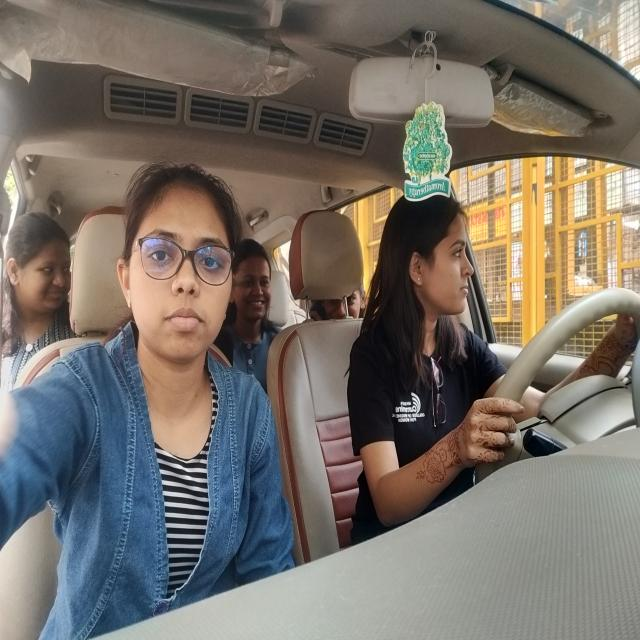LeftRight: (377, 192, 476, 330)
person: (118, 157, 235, 371), (7, 205, 73, 334), (234, 233, 275, 334), (317, 288, 364, 323)
